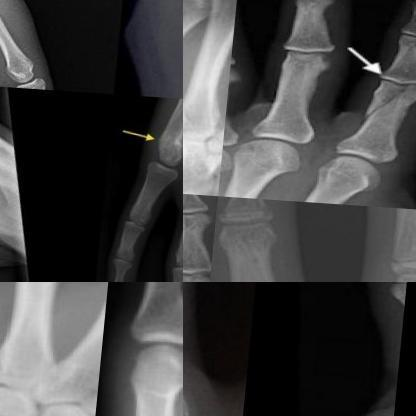fracture: (373, 73, 415, 128), (156, 122, 182, 171), (388, 282, 412, 325)
